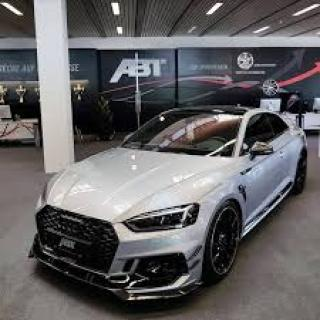Normal_vehicle: (31, 104, 309, 310)
